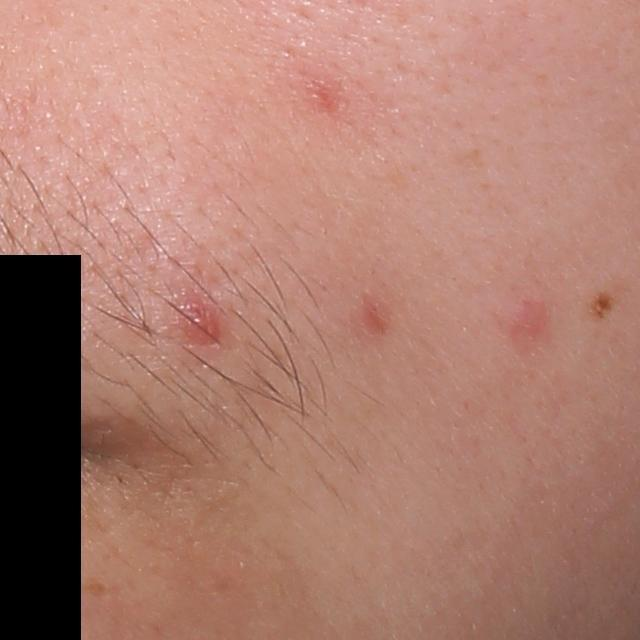nevus: (592, 295, 613, 326)
papule: (183, 303, 221, 350)
